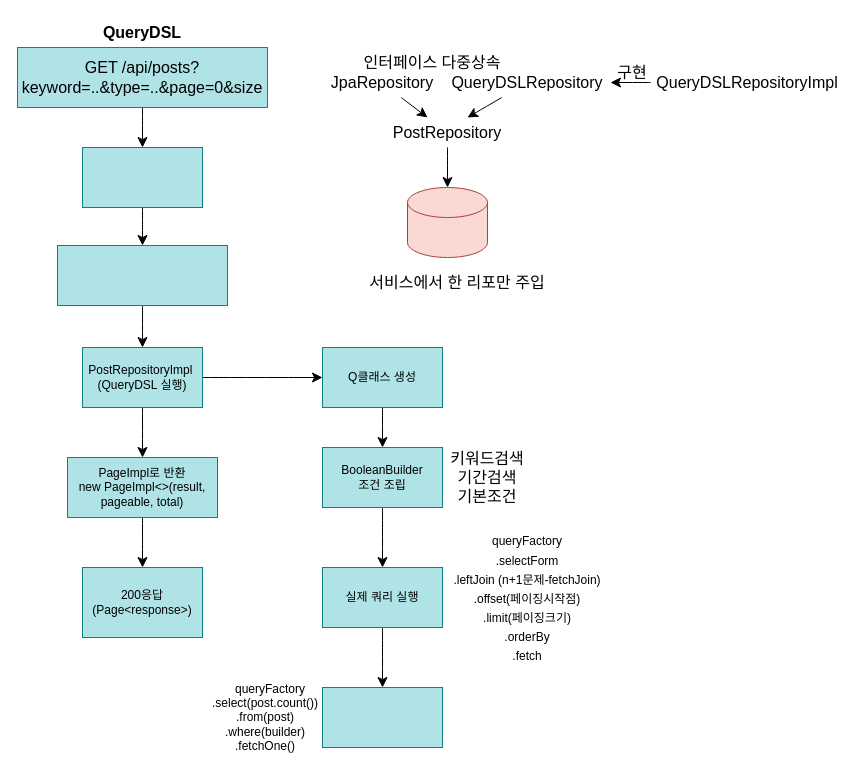
This 855x770 diagram has some shape labels left out. The shapes that lost their labels are listed below. From the top down, each one's box as (x1, y1, x2, y2) in pixels, then its label:
(82, 146, 202, 208): Controller pageble 매핑
(406, 186, 488, 258): DB
(56, 244, 228, 306): Service search(keyword,type,pageable) 호출
(322, 686, 442, 748): 전체 개수 쿼리 (페이징용)
